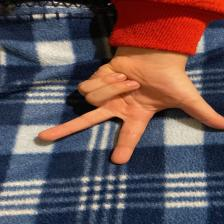five: (39, 50, 221, 166)
